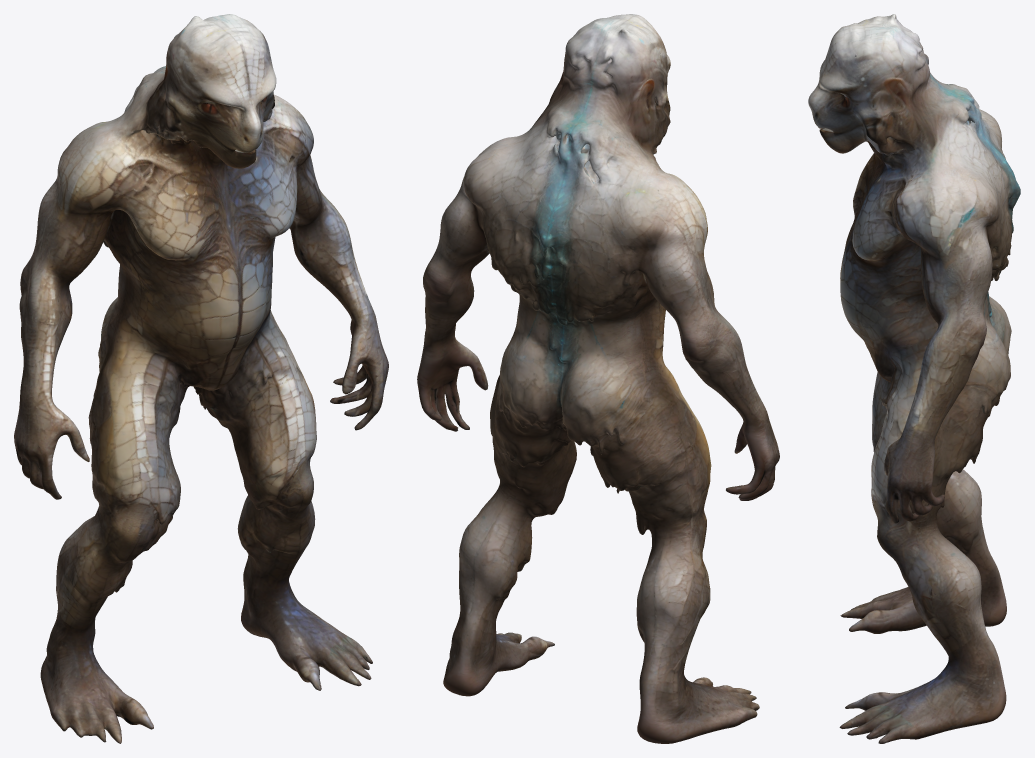
File: Create_a_hyper_realis_0209104304_texture.fbx
3 renders of one model, left to right at view 1: azimuth 30°, elevation 25°; view 2: azimuth 150°, elevation 25°; view 3: azimuth 270°, elevation 25°, orthographic. The views are drawn at different scales.
Parts seen in each view (by area): view 1: Mesh1_Mesh1.024; view 2: Mesh1_Mesh1.024; view 3: Mesh1_Mesh1.024.
Boxes of the visible parts, <box> form: Mesh1_Mesh1.024: <box>14,14,388,743</box>; Mesh1_Mesh1.024: <box>417,14,779,743</box>; Mesh1_Mesh1.024: <box>808,14,1020,743</box>.
Bounding box in the file's own units: 112 × 200 × 59.12.
Materials: 1 (1 with a texture image).
